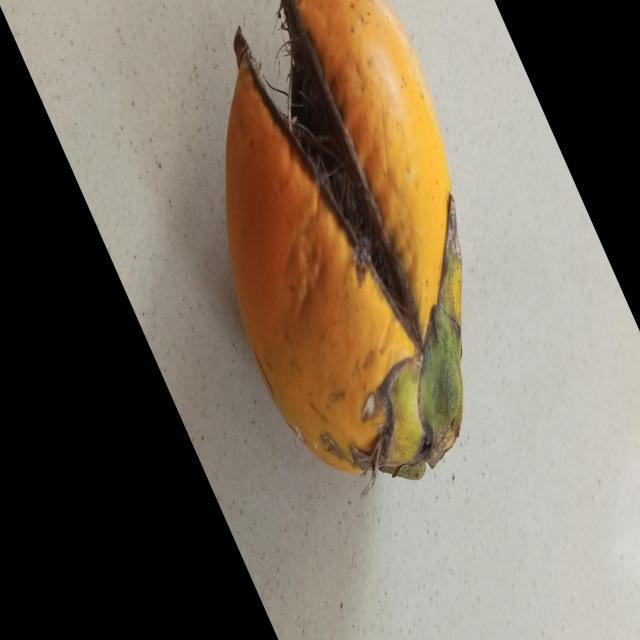damaged: (224, 0, 464, 482)
